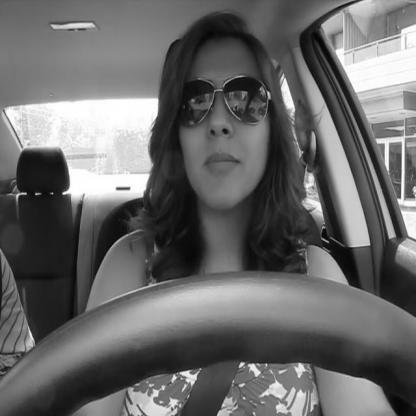seatbelt: (155, 13, 319, 416)
